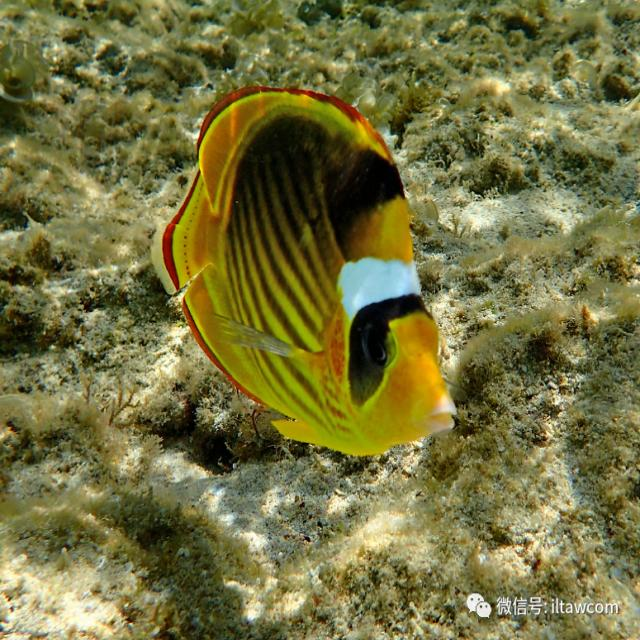ButterflyFish: (160, 86, 457, 456)
